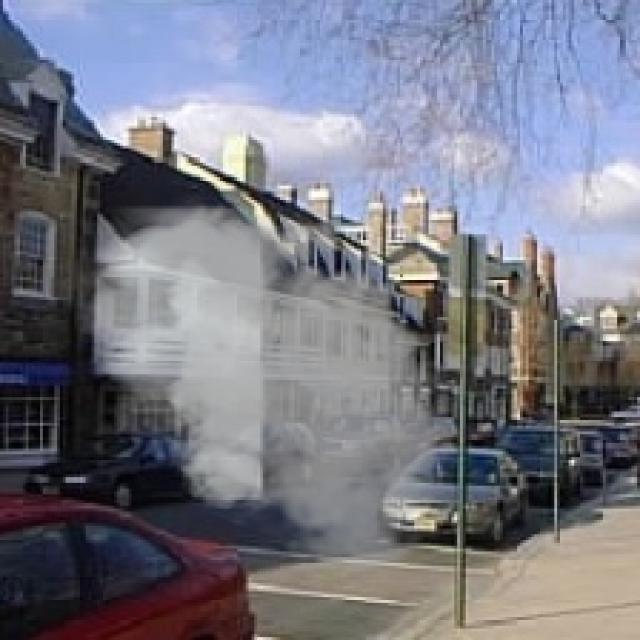Smoke: (74, 191, 472, 583)
